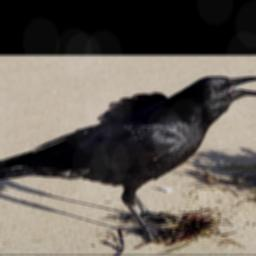Crow: (0, 75, 256, 246)
